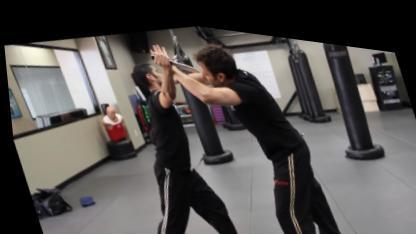knife: (145, 36, 202, 79)
